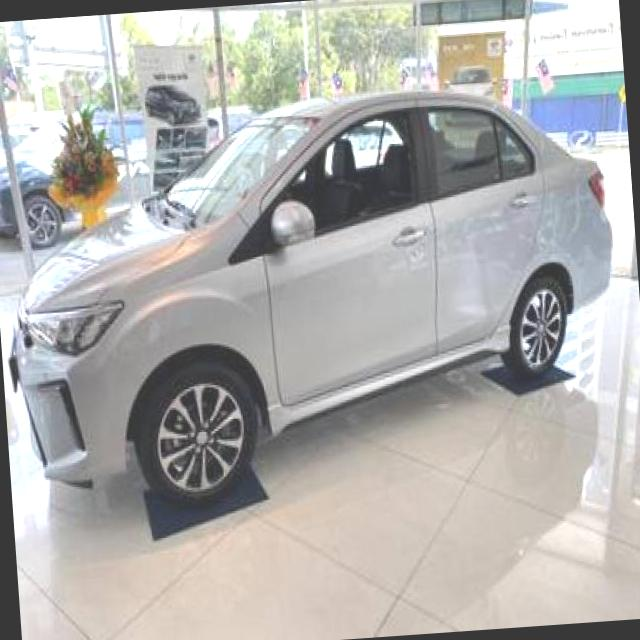PeroduaBezza: (0, 73, 630, 516)
